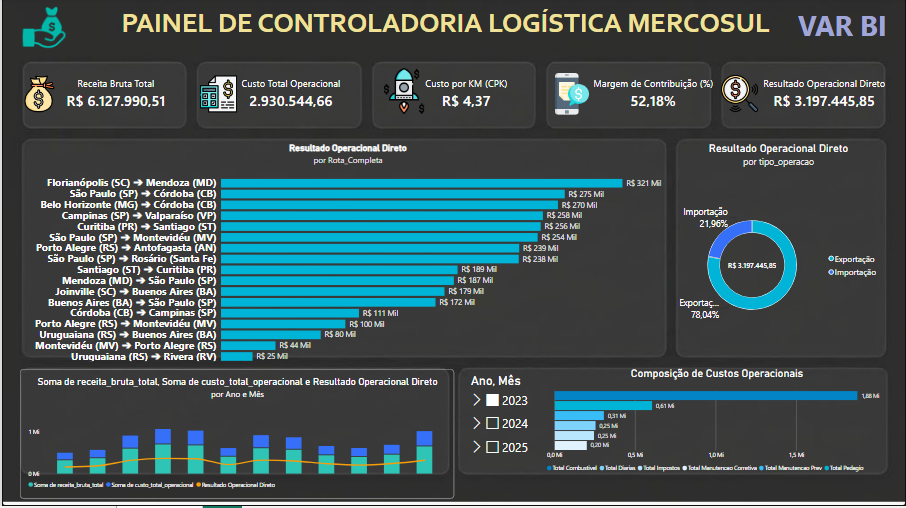

This screenshot's page, from the dashboard's own definition file:
{"tool":"powerbi","page":{"name":"Página 1","canvas":[1920,1080],"ordinal":0},"visuals":[{"type":"textbox","box":[89.3,17,1707.2,91.4],"z":0},{"type":"image","box":[0,17,178.6,91.4],"z":1000},{"type":"textbox","box":[1692.3,17,206.2,121.2],"z":2000},{"type":"cardVisual","fields":{"Data":["public fato_viagens.Receita Bruta Total"]},"box":[106.3,138.2,272.1,129.7],"z":3000},{"type":"cardVisual","fields":{"Data":["public fato_viagens.Custo Total Operacional"]},"box":[450.7,129.7,327.4,146.7],"z":4000},{"type":"cardVisual","fields":{"Data":["public fato_viagens.Custo por KM (CPK)"]},"box":[803.6,129.7,367.8,146.7],"z":5000},{"type":"cardVisual","fields":{"Data":["public fato_viagens.Margem de Contribuição (%)"]},"box":[1201.2,129.7,367.8,146.7],"z":6000},{"type":"cardVisual","fields":{"Data":["public fato_viagens.Resultado Operacional Direto"]},"box":[1598.7,138.2,299.8,129.7],"z":7000},{"type":"clusteredBarChart","fields":{"Category":["public dim_rota.Rota_Completa"],"Y":["public fato_viagens.Resultado Operacional Direto"]},"box":[53.1,293.4,1364.9,495.4],"z":8000},{"type":"donutChart","fields":{"Category":["public dim_rota.tipo_operacao"],"Y":["public fato_viagens.Resultado Operacional Direto"]},"box":[1418,293.4,465.6,478.3],"z":9000},{"type":"lineStackedColumnComboChart","fields":{"Category":["public fato_viagens.data_saida.Variação.Hierarquia de datas.Ano","public fato_viagens.data_saida.Variação.Hierarquia de datas.Mês"],"Y":["Sum(public fato_viagens.receita_bruta_total)","Sum(public fato_viagens.custo_total_operacional)"],"Y2":["public fato_viagens.Resultado Operacional Direto"]},"box":[38.3,788.7,922.7,276.4],"z":10000},{"type":"slicer","fields":{"Values":["public fato_viagens.data_saida.Variação.Hierarquia de datas.Ano","public fato_viagens.data_saida.Variação.Hierarquia de datas.Mês"]},"box":[988.6,797.2,223.2,208.3],"z":11000},{"type":"clusteredBarChart","title":"Composição de Custos Operacionais","fields":{"Y":["public fato_viagens.Total Combustivel","public fato_viagens.Total Diarias","public fato_viagens.Total Impostos","public fato_viagens.Total Manutencao Corretiva","public fato_viagens.Total Manutencao Prev","public fato_viagens.Total Pedagio"]},"box":[1141.7,771.7,756.9,257.2],"z":12000},{"type":"image","box":[1528.6,159.4,78.7,87.2],"z":12001},{"type":"image","box":[1162.9,159.4,95.7,89.3],"z":12002},{"type":"image","box":[803.6,148.8,102,97.8],"z":12003},{"type":"image","box":[420.9,159.4,78.7,89.3],"z":12004},{"type":"image","box":[38.3,133.9,78.7,140.3],"z":12005}]}

Visuals, with their boxes in screenshot pixels (x1, y1, x2, y2), scaled from the page's 1920x1080 canvas onto the 906x508 screenshot:
textbox: left=42, top=8, right=848, bottom=51
image: left=0, top=8, right=84, bottom=51
textbox: left=799, top=8, right=896, bottom=65
cardVisual - public fato_viagens.Receita Bruta Total: left=50, top=65, right=179, bottom=126
cardVisual - public fato_viagens.Custo Total Operacional: left=213, top=61, right=367, bottom=130
cardVisual - public fato_viagens.Custo por KM (CPK): left=379, top=61, right=553, bottom=130
cardVisual - public fato_viagens.Margem de Contribuição (%): left=567, top=61, right=740, bottom=130
cardVisual - public fato_viagens.Resultado Operacional Direto: left=754, top=65, right=896, bottom=126
clusteredBarChart - public dim_rota.Rota_Completa x public fato_viagens.Resultado Operacional Direto: left=25, top=138, right=669, bottom=371
donutChart - public dim_rota.tipo_operacao x public fato_viagens.Resultado Operacional Direto: left=669, top=138, right=889, bottom=363
lineStackedColumnComboChart - public fato_viagens.data_saida.Variação.Hierarquia de datas.Ano x public fato_viagens.data_saida.Variação.Hierarquia de datas.Mês: left=18, top=371, right=453, bottom=501
slicer - public fato_viagens.data_saida.Variação.Hierarquia de datas.Ano x public fato_viagens.data_saida.Variação.Hierarquia de datas.Mês: left=466, top=375, right=572, bottom=473
"Composição de Custos Operacionais" clusteredBarChart: left=539, top=363, right=896, bottom=484
image: left=721, top=75, right=758, bottom=116
image: left=549, top=75, right=594, bottom=117
image: left=379, top=70, right=427, bottom=116
image: left=199, top=75, right=236, bottom=117
image: left=18, top=63, right=55, bottom=129
